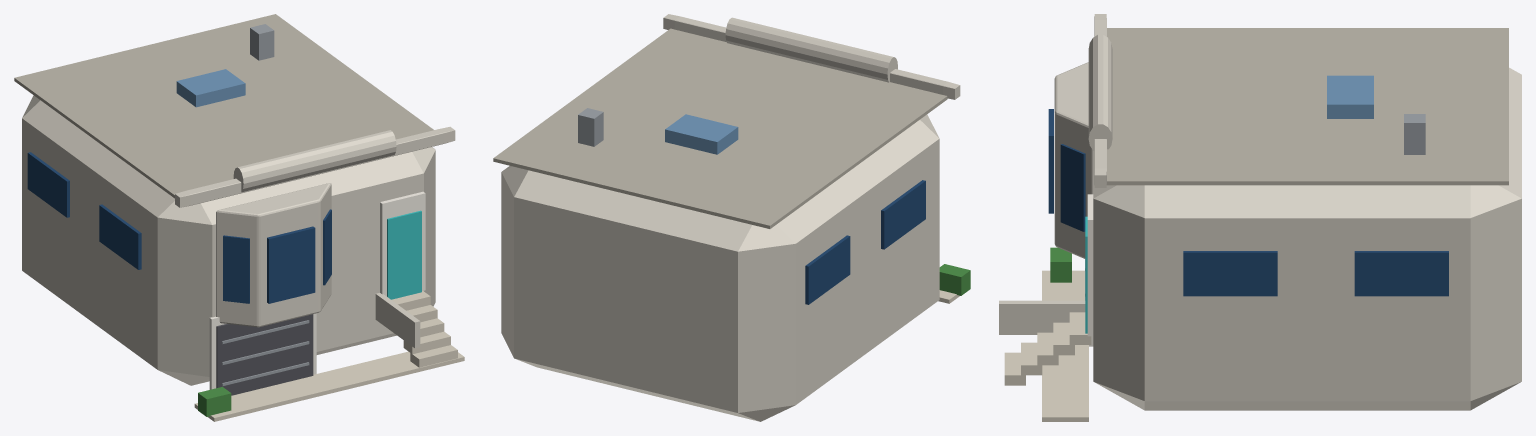
The model's file is sunset_w9_curved_bay.glb.
The picture shows the model from 3 angles, left to right: view 1: azimuth 30°, elevation 25°; view 2: azimuth 150°, elevation 25°; view 3: azimuth 270°, elevation 25°; orthographic projection. The views are drawn at different scales.
Visible parts, largest first — view 1: walls, roofslab, bay, gdoor, patio, pcurve, bw, door, pp1, skylt, bwa, dfr (+10 smaller); view 2: walls, roofslab, pcurve, skylt, pp1, sb.002, sb, pipe, hedge; view 3: walls, roofslab, bay, sb.001, sb.003, patio, pcurve, srail, bwa.001, skylt, dfr, pp1 (+8 smaller).
Boxes of the visible parts, x1,y1,x2,y2 form: walls: (22, 95, 435, 385); roofslab: (14, 14, 433, 198); bay: (216, 183, 331, 327); gdoor: (216, 314, 313, 395); patio: (194, 351, 464, 421); pcurve: (233, 130, 396, 192); bw: (267, 226, 315, 303); door: (387, 210, 421, 299); pp1: (175, 126, 455, 207); skylt: (176, 69, 245, 107); bwa: (223, 235, 249, 303); dfr: (380, 191, 425, 296); walls: (501, 114, 939, 421); roofslab: (493, 28, 947, 228); pcurve: (725, 17, 897, 82); skylt: (665, 114, 738, 154); pp1: (663, 14, 960, 99); sb.002: (805, 235, 850, 304); sb: (881, 180, 925, 249); pipe: (578, 108, 603, 146); hedge: (939, 264, 970, 295); walls: (1093, 67, 1521, 410); roofslab: (1106, 28, 1508, 185); bay: (1054, 62, 1093, 258); sb.001: (1183, 251, 1277, 296); sb.003: (1354, 251, 1448, 296); patio: (1042, 270, 1088, 421); pcurve: (1088, 34, 1112, 150); srail: (999, 300, 1085, 334); bwa.001: (1060, 144, 1085, 231); skylt: (1327, 75, 1373, 118); dfr: (1087, 194, 1093, 336); pp1: (1094, 14, 1106, 187).
Size of the model in its own units: 9.2 by 7.1 by 12.2.
